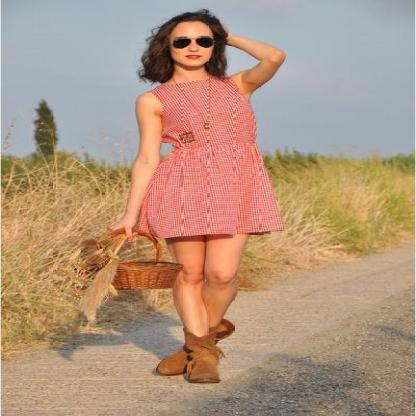dress: (134, 72, 282, 250)
shoe: (152, 316, 234, 383)
sunglass: (172, 38, 202, 48)
